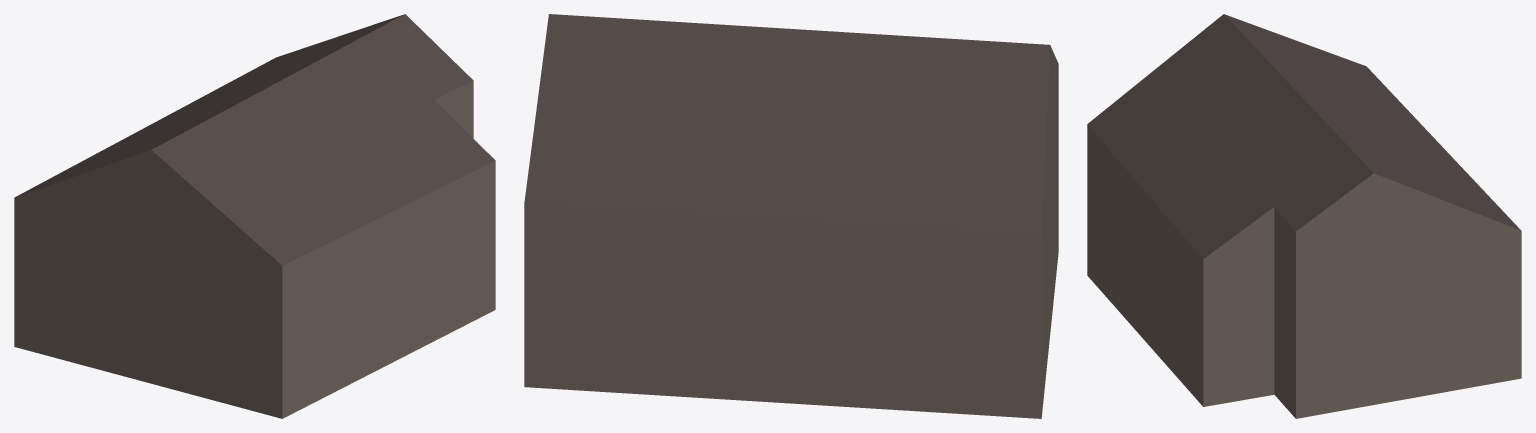
3 views of the same model, side by side, from view 1: azimuth 30°, elevation 25°; view 2: azimuth 150°, elevation 25°; view 3: azimuth 270°, elevation 25° (orthographic). The views are drawn at different scales.
Visible parts, largest first — view 1: HP-w1512480739; view 2: HP-w1512480739; view 3: HP-w1512480739.
Part boxes in pixels (box(x1,y1,x2,y2)): HP-w1512480739: box(14, 14, 495, 418); HP-w1512480739: box(524, 14, 1058, 418); HP-w1512480739: box(1087, 14, 1521, 418).
Size of the model in its own units: 26.75 by 14.11 by 23.96.
